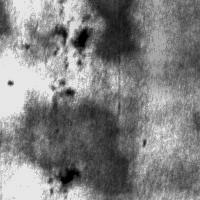patches: (14, 101, 132, 193), (116, 0, 200, 92), (82, 0, 184, 75), (89, 1, 137, 59), (57, 23, 92, 53), (50, 165, 82, 192)
